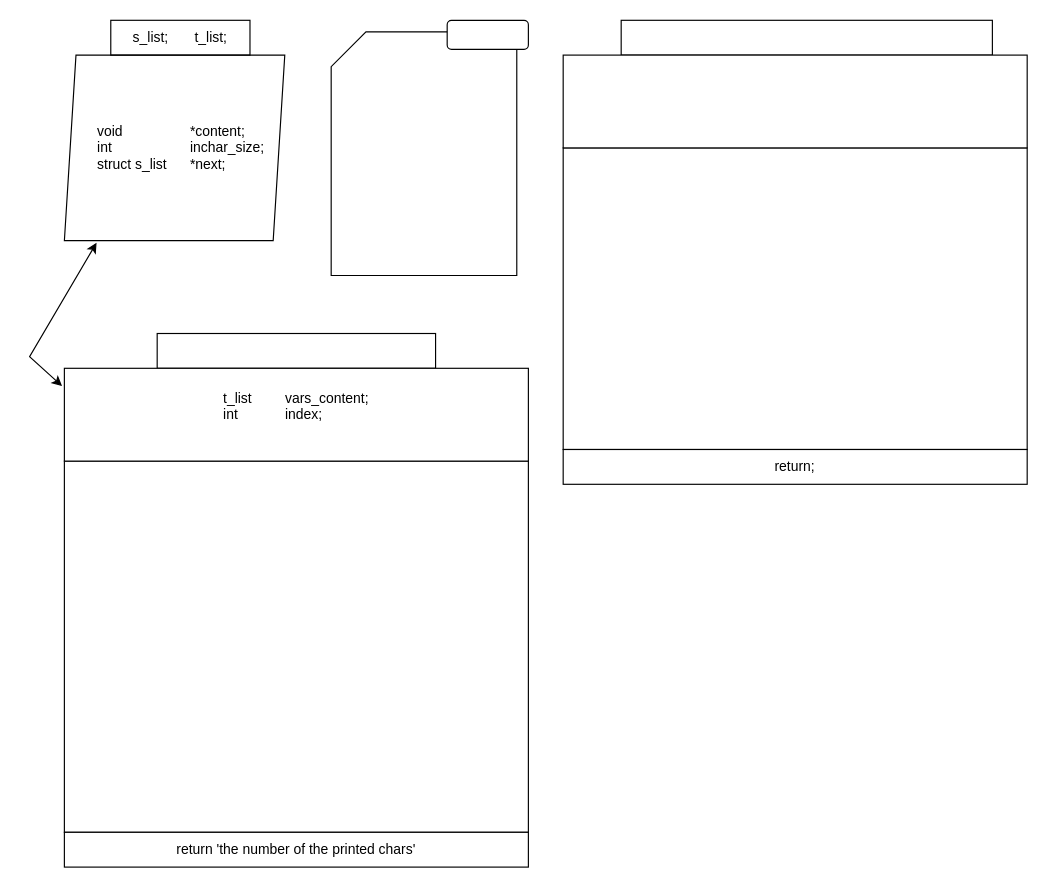
This 1047x887 diagram has some shape labels left out. The shapes that lost their labels are listed below. From the top down, each one's box as (x1, y1, x2, y2) in pixels, then its label:
(446, 19, 528, 49): constants
(620, 19, 992, 55): void ft_type_putchar(void *content, int type);
(156, 332, 436, 368): int ft_printf(const char *str, ...);
